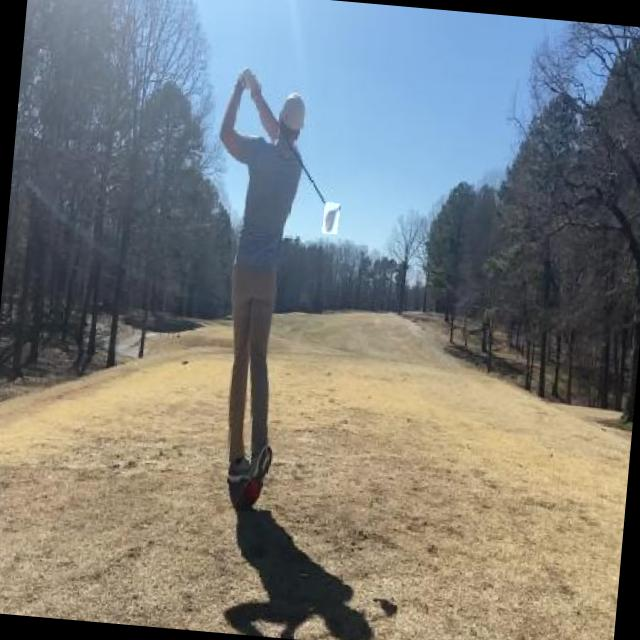club head: (322, 202, 339, 234)
